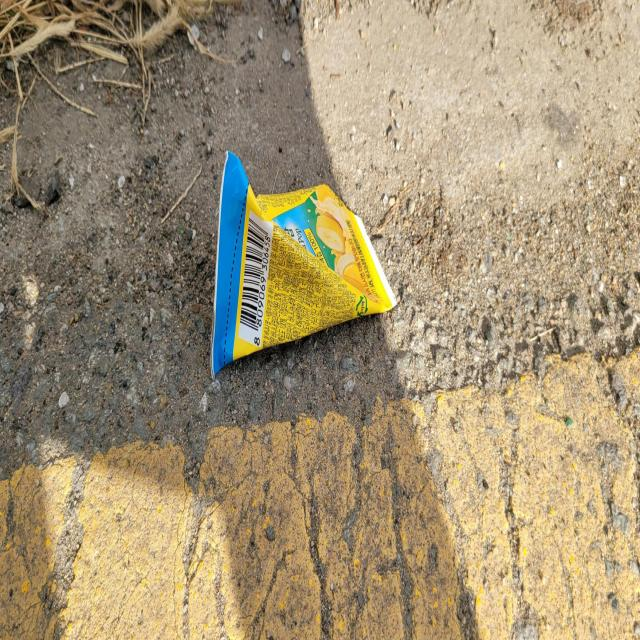paperpack: (211, 150, 396, 375)
